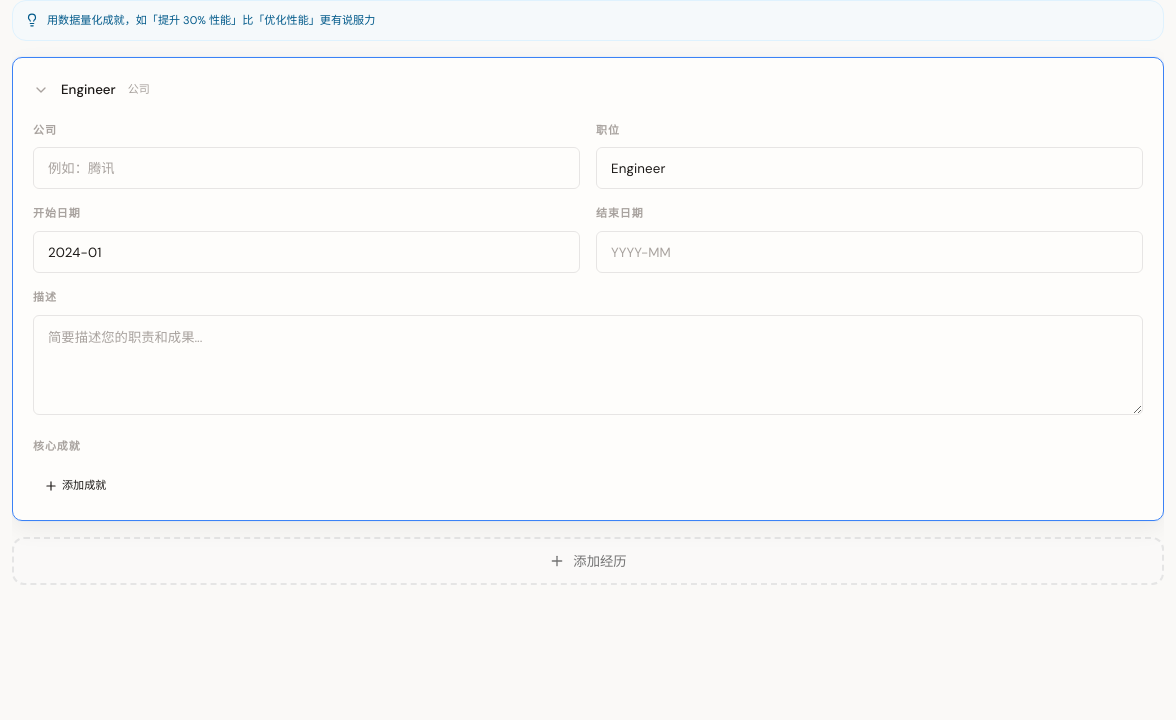
ExperienceSection › allows editing company name
The image size is (1176, 720).
Step 1. Type "Google" into the field with placeholder "例如：腾讯" → (306,168), box [33,147,580,189]
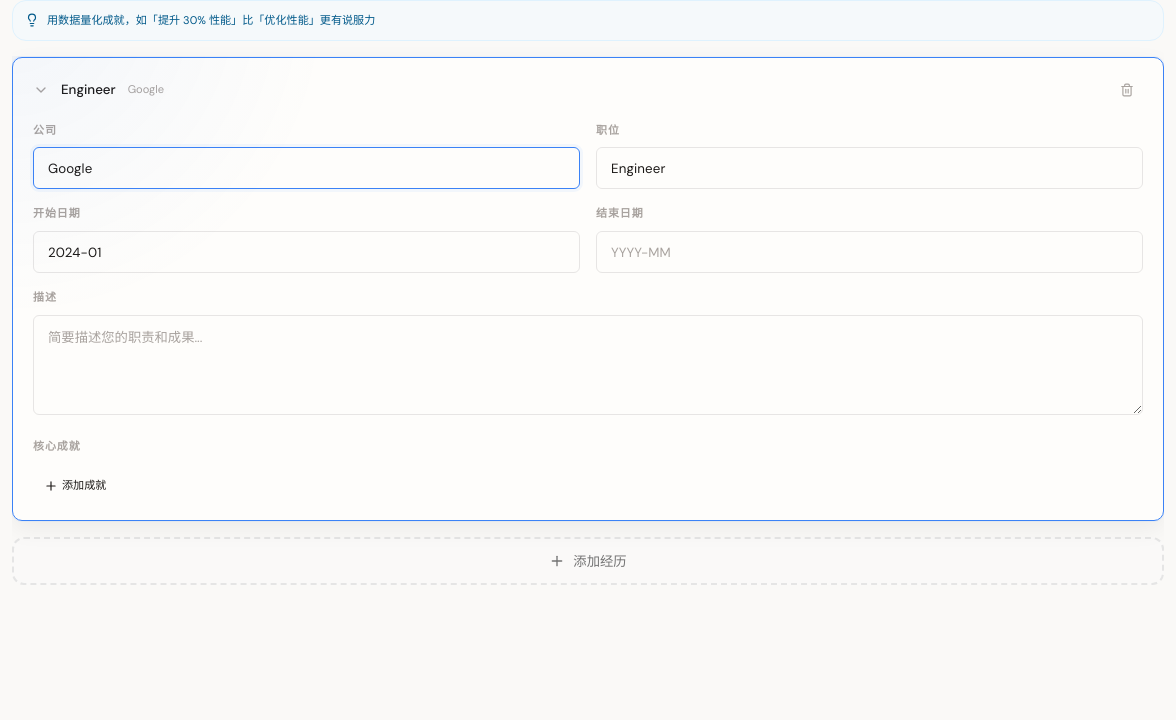
Expected: the text "Google" is shown, [128,82,164,97]
